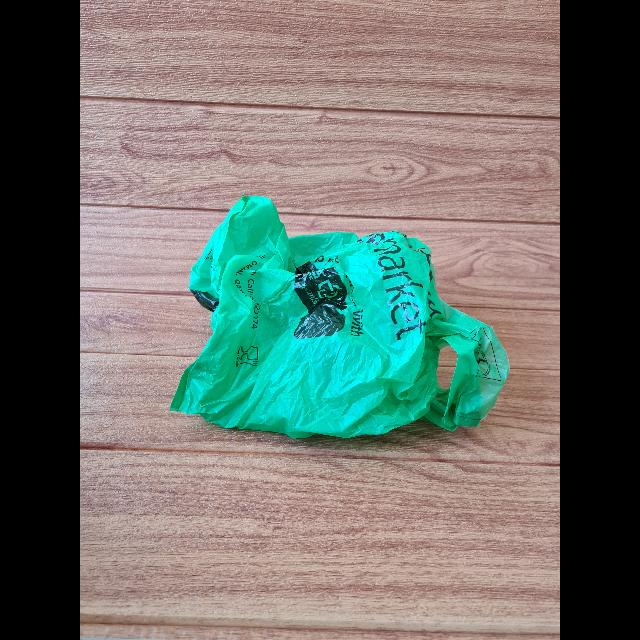plastic_bag: (174, 186, 510, 452)
